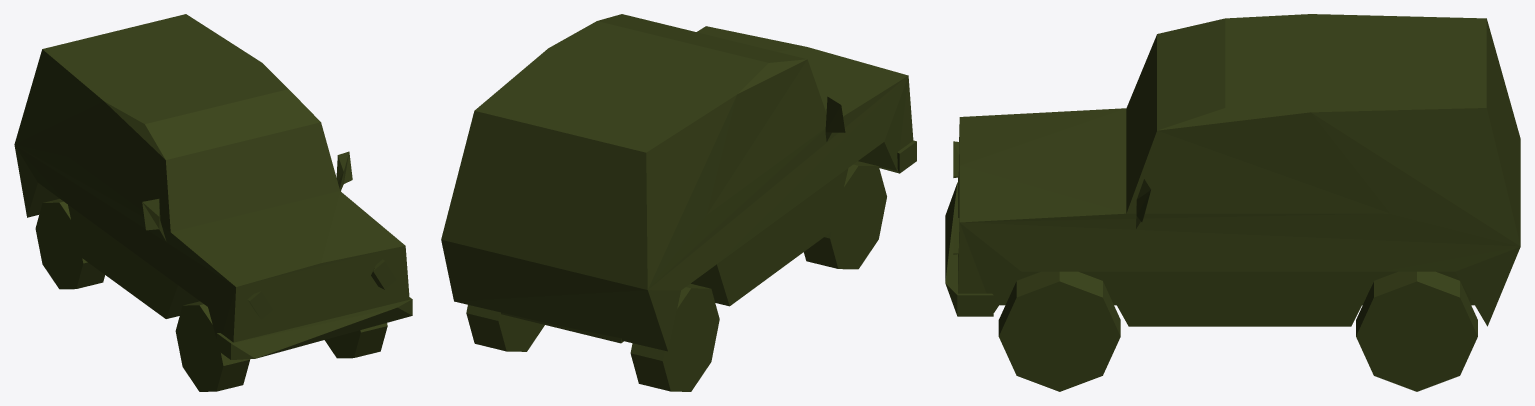
The model's file is mil-jeep.lod2.glb.
3 renders of one model, left to right at view 1: azimuth 30°, elevation 25°; view 2: azimuth 150°, elevation 25°; view 3: azimuth 270°, elevation 25°, orthographic. The views are drawn at different scales.
Parts seen in each view (by area): view 1: UAZ_UAZ_0; view 2: UAZ_UAZ_0; view 3: UAZ_UAZ_0.
Part boxes in pixels (box(x1,y1,x2,y2)): UAZ_UAZ_0: box(14, 14, 412, 391); UAZ_UAZ_0: box(441, 14, 916, 391); UAZ_UAZ_0: box(945, 14, 1520, 391).
Size of the model in its own units: 2.12 by 2.13 by 4.
